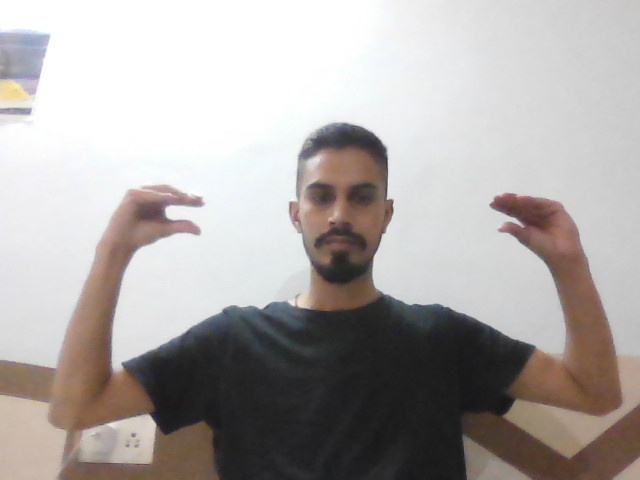No: (95, 178, 210, 256)
